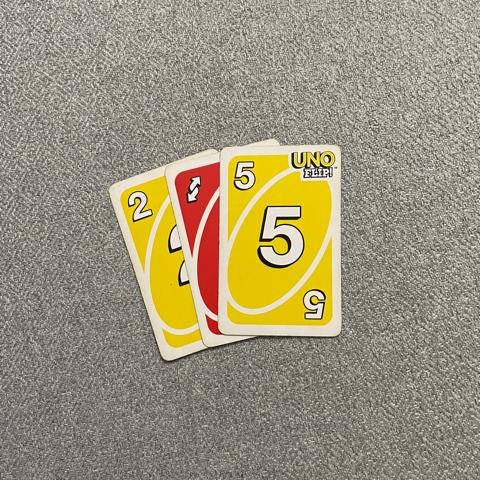3_red: (181, 176, 203, 203)
6_red: (126, 191, 154, 223)
9_red: (257, 199, 305, 270), (233, 158, 256, 192), (302, 289, 326, 321)
